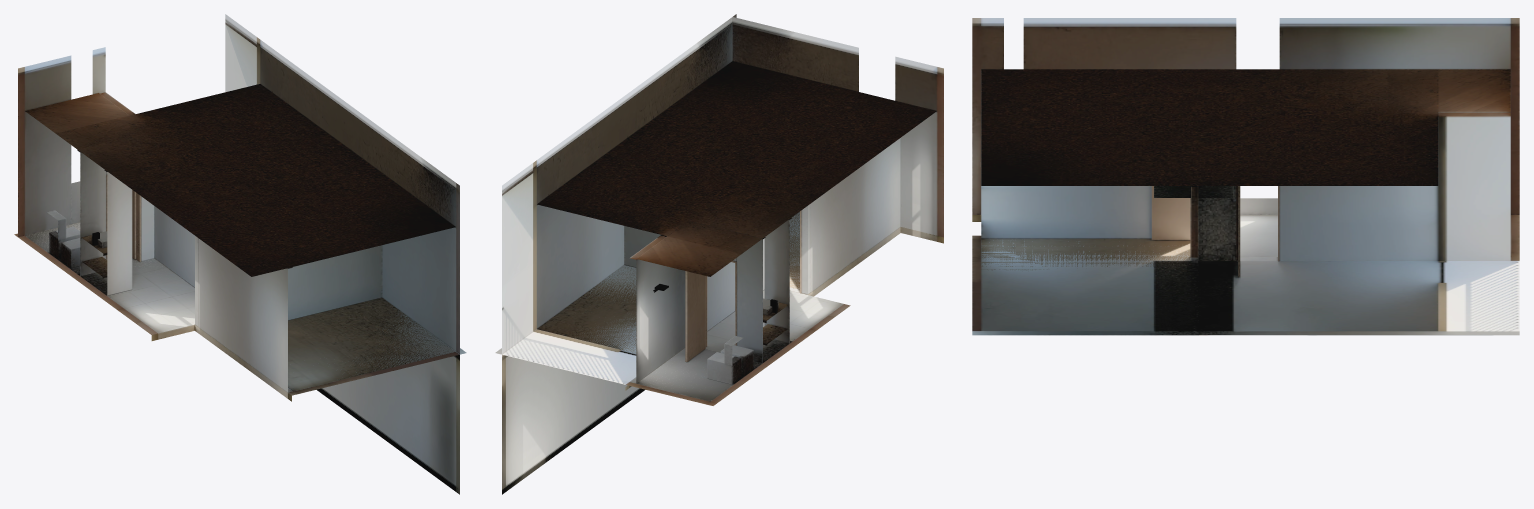
File: interior_pa.glb
3 renders of one model, left to right at view 1: azimuth 30°, elevation 25°; view 2: azimuth 150°, elevation 25°; view 3: azimuth 270°, elevation 25°, orthographic. The views are drawn at different scales.
Parts seen in each view (by area): view 1: B_Interior_PA; view 2: B_Interior_PA; view 3: B_Interior_PA.
Boxes of the visible parts, x1,y1,x2,y2 form: B_Interior_PA: (14,14,466,494); B_Interior_PA: (495,14,943,494); B_Interior_PA: (972,18,1519,335).
Size of the model in its own units: 4.8 by 6.5 by 8.94.
1 material, 1 textured.
